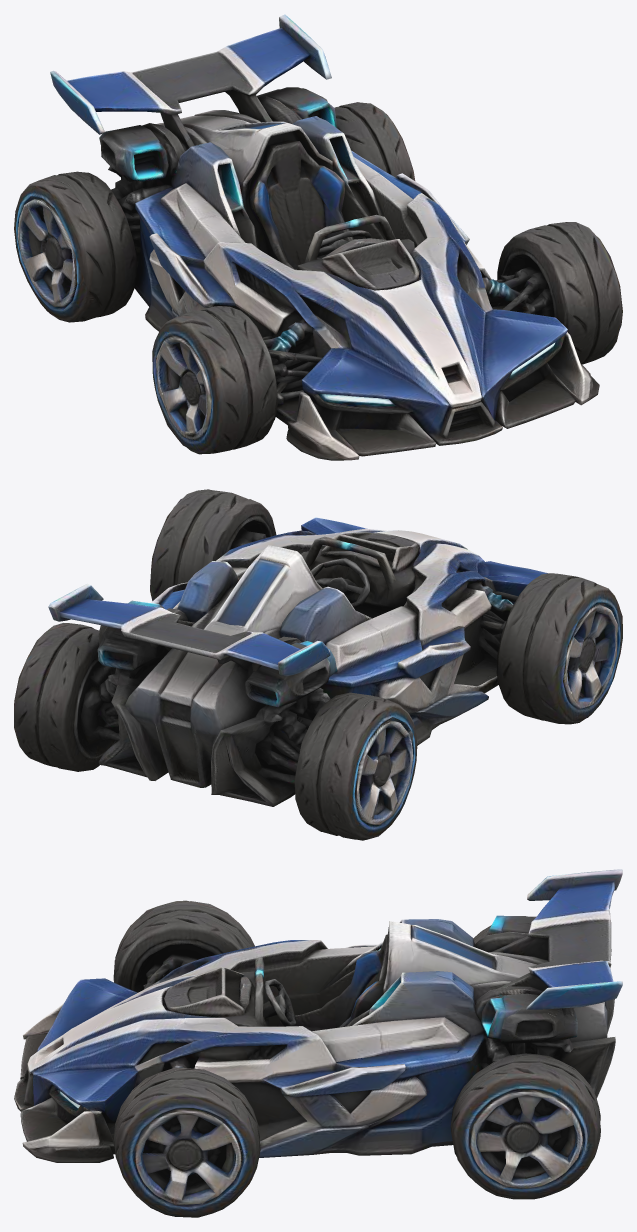
Rendered from 02-cobalt-manta.glb.
The picture shows the model from 3 angles, top to bottom: view 1: azimuth 30°, elevation 25°; view 2: azimuth 150°, elevation 25°; view 3: azimuth 270°, elevation 25°; orthographic projection.
Visible parts, largest first — view 1: 02-cobalt-manta; view 2: 02-cobalt-manta; view 3: 02-cobalt-manta.
Part boxes in pixels (x1,y1,x2,y2): 02-cobalt-manta: (14,14,622,460); 02-cobalt-manta: (14,489,622,840); 02-cobalt-manta: (14,869,622,1217).
Size of the model in its own units: 1.46 by 0.6852 by 1.89.
1 material, 1 textured.
